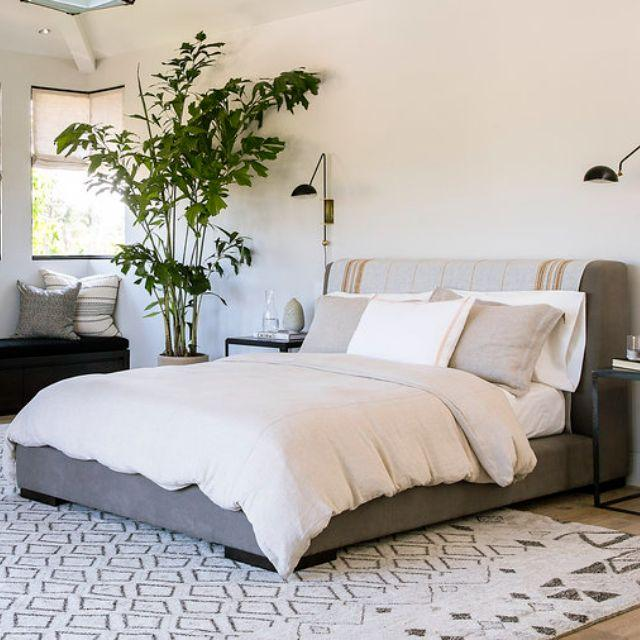bed: (15, 351, 611, 497)
pillow: (422, 284, 586, 378), (336, 298, 477, 364), (39, 269, 126, 345), (15, 278, 77, 340), (314, 290, 365, 361)
window: (26, 77, 131, 269)
